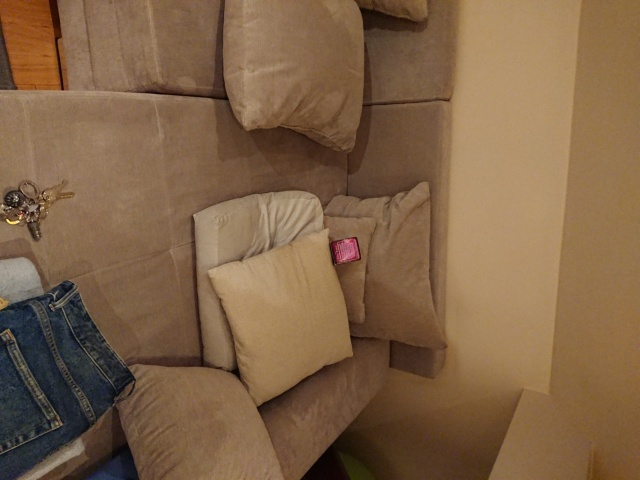Franck Black Currant Tea 60g: (328, 235, 363, 266)
